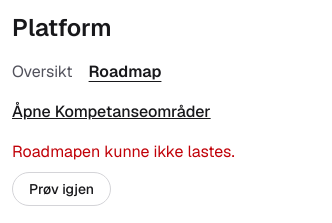
Test: RoadmapPage read shell › replaces the read error with the no-access alert when the retry is authoritatively forbidden
Expected: the message reads "Roadmapen kunne ikke lastes.", [12,141,235,162]
Step 1. Click the button "Prøv igjen" → click(62, 189), box [12,172,111,206]
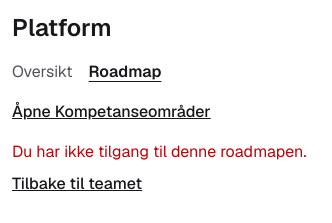
Expected: the message reads "Du har ikke tilgang til denne roadmapen.", [12,141,306,162]
Expected: the text "Roadmapen kunne ikke lastes." is gone
Expected: the button "Prøv igjen" is gone
